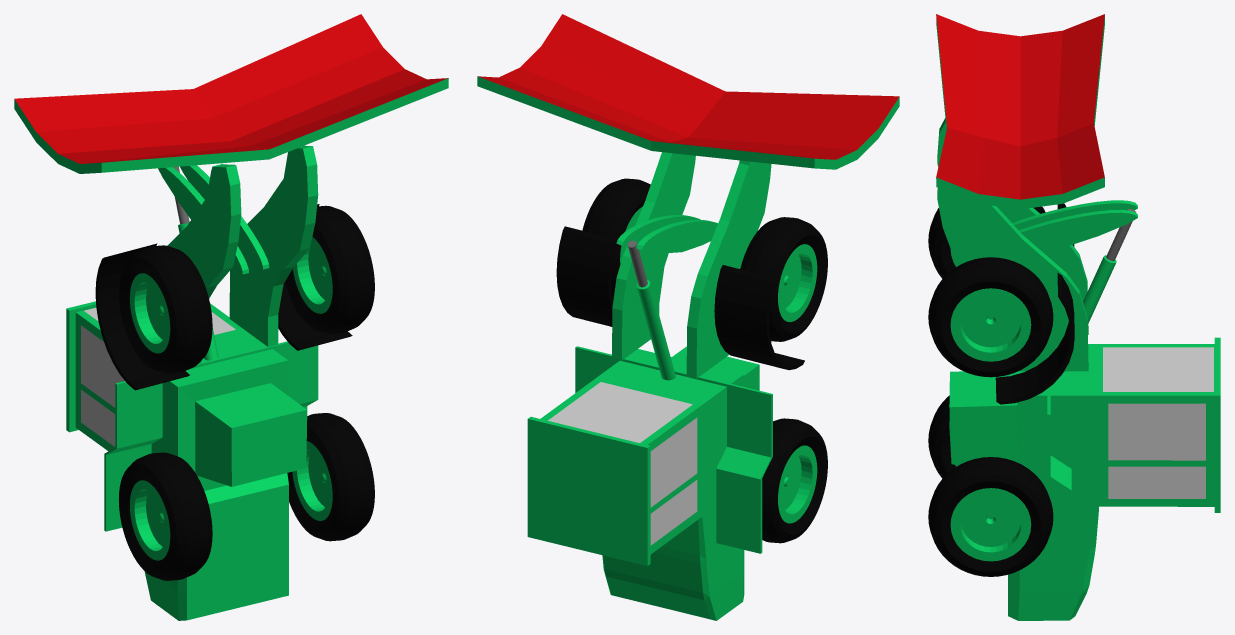
File: Greenbull.fbx
The picture shows the model from 3 angles, left to right: view 1: azimuth 30°, elevation 25°; view 2: azimuth 150°, elevation 25°; view 3: azimuth 270°, elevation 25°; orthographic projection. The views are drawn at different scales.
Visible parts, largest first — view 1: Cube; view 2: Cube; view 3: Cube.
Part boxes in pixels (box(x1,y1,x2,y2)): Cube: box(14, 14, 448, 620); Cube: box(477, 14, 899, 620); Cube: box(928, 14, 1220, 620).
Size of the model in its own units: 958 by 1369 by 724.
